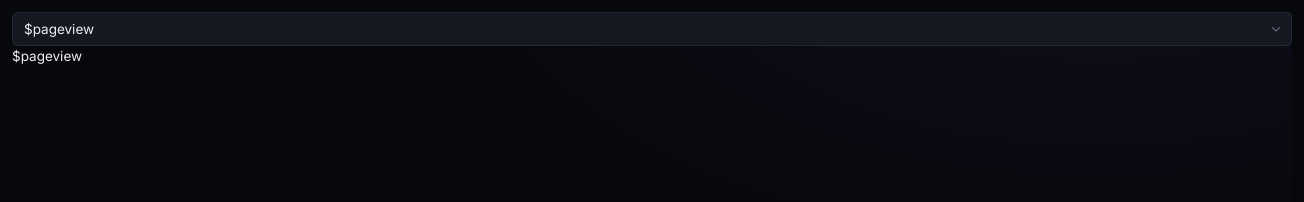
SuggestInput › supports the keyboard: arrows move, enter picks, escape closes
The width and height of the screenshot is (1304, 202).
Later steps or results of the test are not shown.
Focus the dropdown named "Series 1 event": coordinates (652, 29) x1=12 y1=12 x2=1292 y2=46
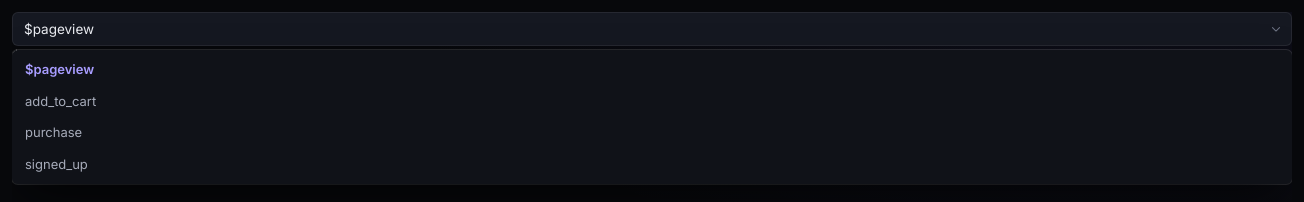
Press ArrowDown in the dropdown named "Series 1 event", box x1=12 y1=12 x2=1292 y2=46
Press ArrowDown in the dropdown named "Series 1 event", box x1=12 y1=12 x2=1292 y2=46
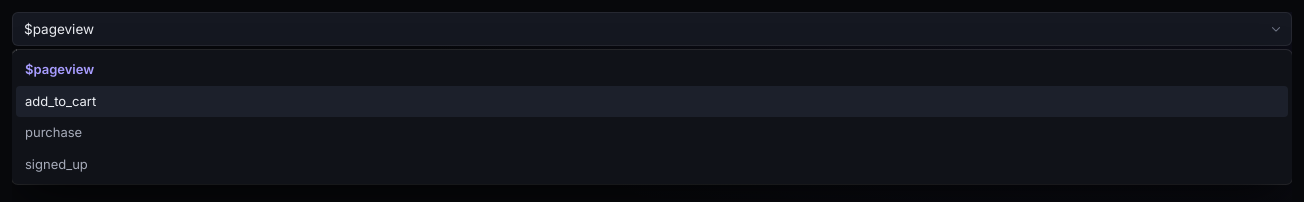
Press Enter in the dropdown named "Series 1 event", box x1=12 y1=12 x2=1292 y2=46
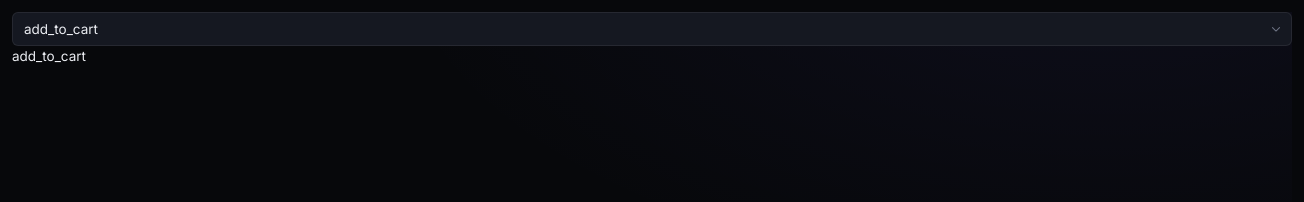
Result: the text with test id "value" reads "add_to_cart" at x1=12 y1=48 x2=86 y2=64
